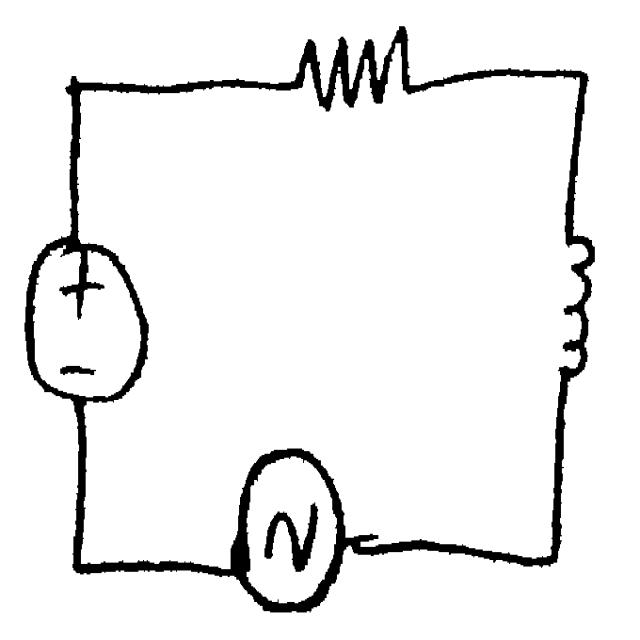ac: (223, 435, 351, 621)
dc: (18, 225, 155, 411)
inductor: (549, 205, 601, 394)
resistor: (281, 20, 428, 132)
